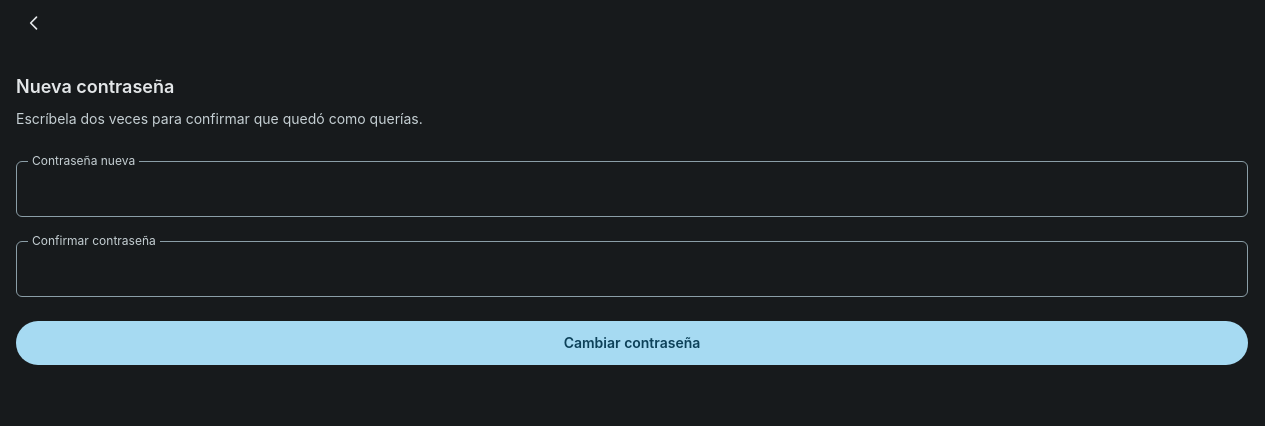
Test: ResetPassword › con 429 muestra el mensaje de demasiados intentos
Step 1. Type "NuevaClave123!" into the password field labelled "Contraseña nueva" → (632, 189), box [16, 161, 1248, 217]
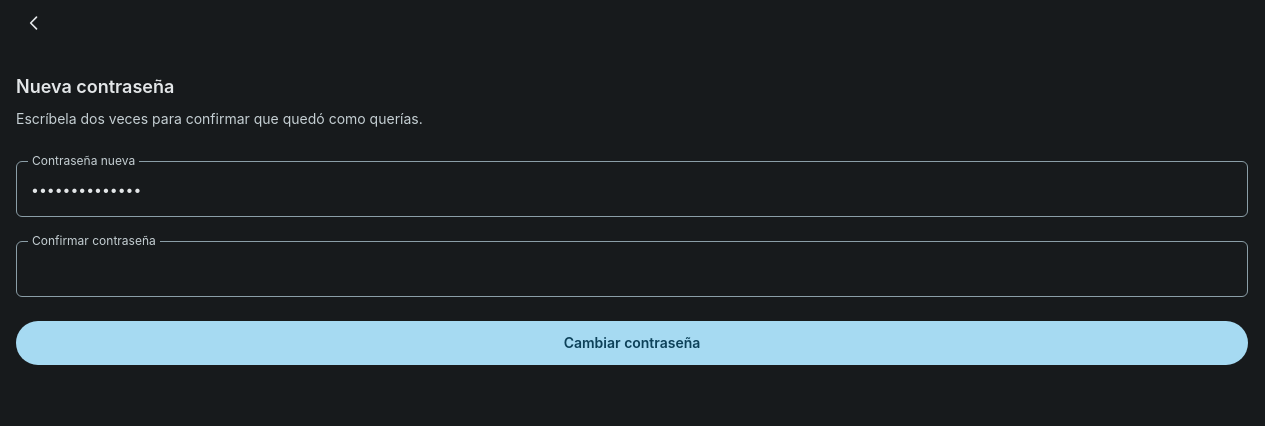
Step 2. Type "NuevaClave123!" into the password field labelled "Confirmar contraseña" → (632, 269), box [16, 241, 1248, 297]
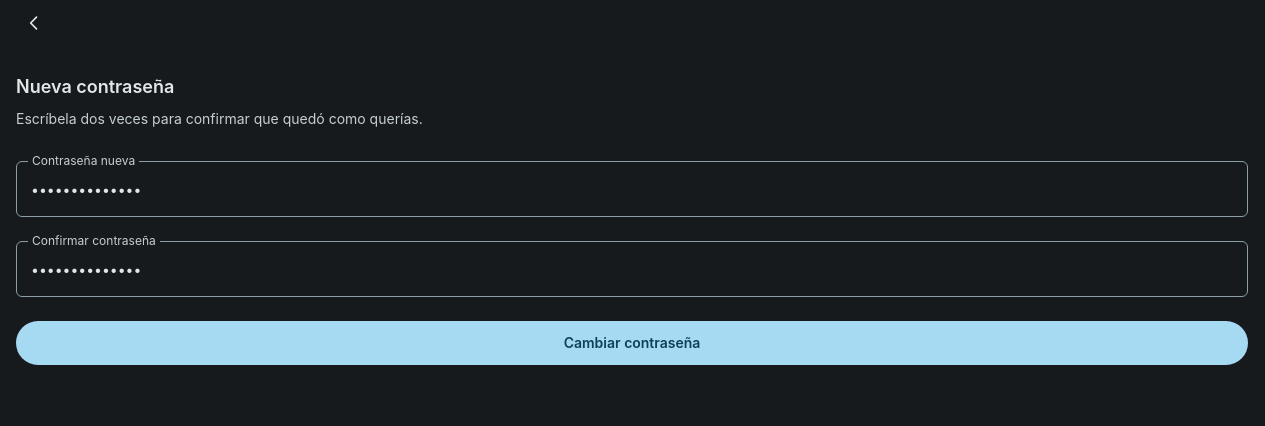
Step 3. Click the button "Cambiar contraseña" → (632, 343), box [16, 321, 1248, 365]
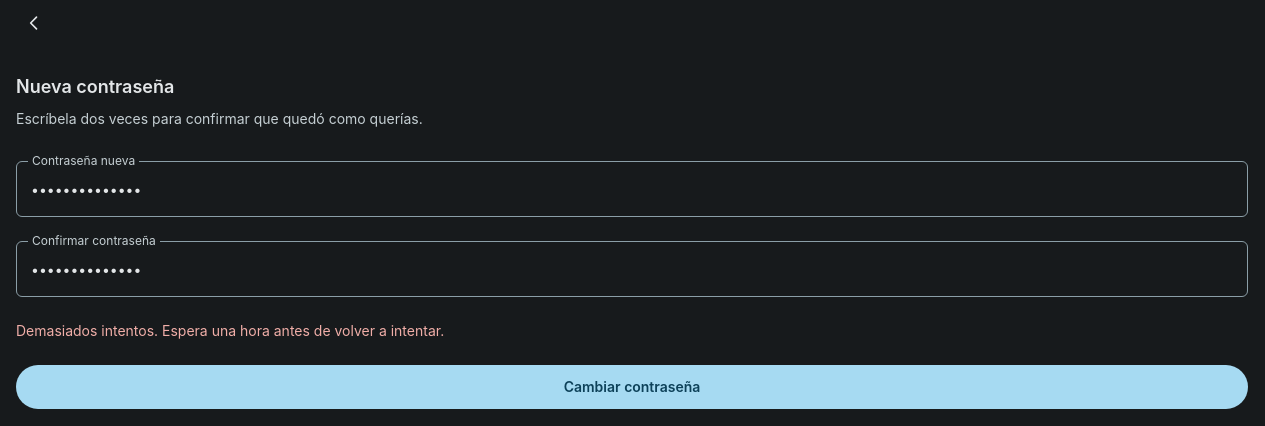
Check: the message shows "Demasiados intentos.", box [16, 322, 444, 339]
